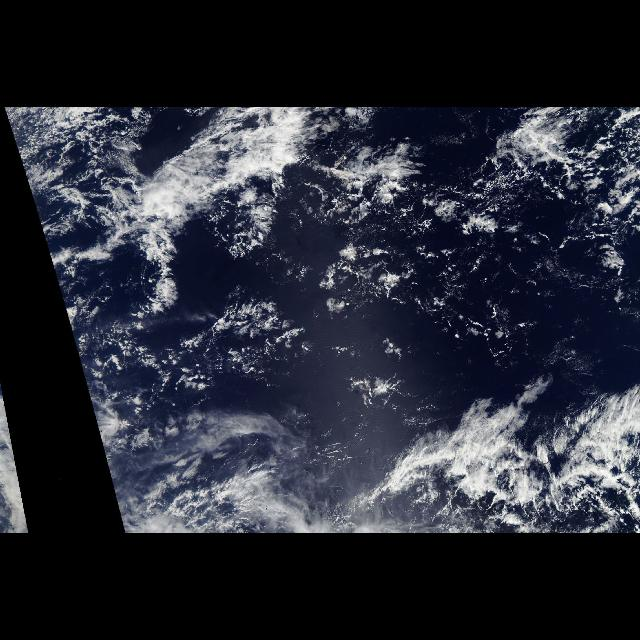Fish: (280, 140, 594, 282)
Gravel: (312, 180, 640, 300)
Sugar: (294, 194, 640, 400)
